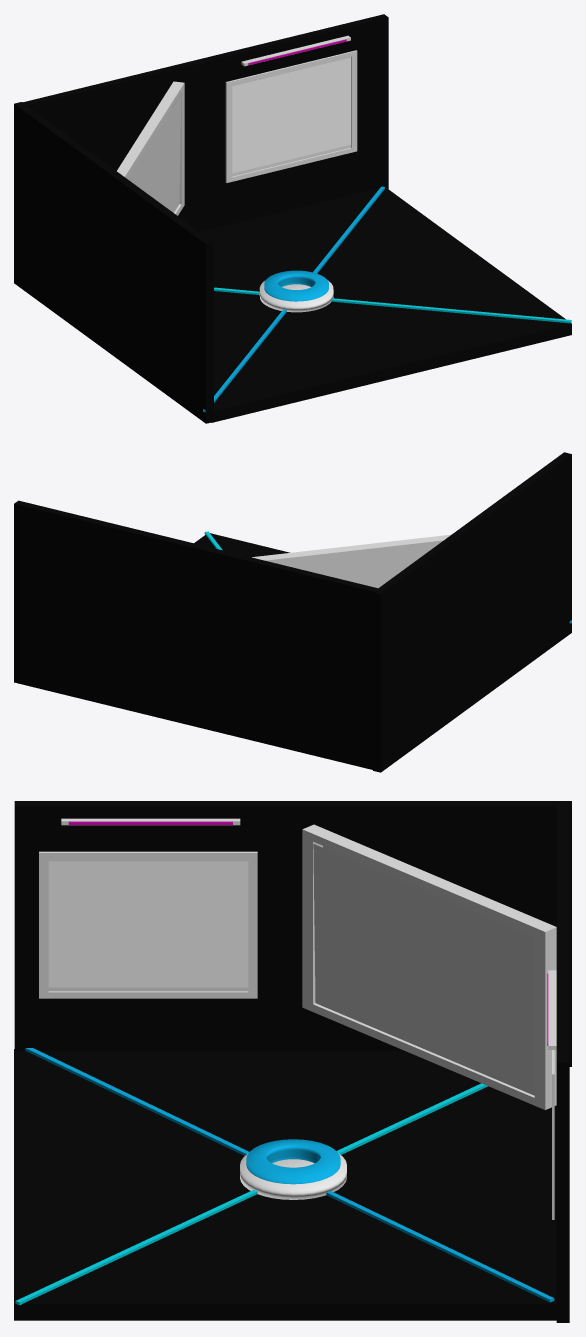
The model's file is about-acses.glb.
3 renders of one model, top to bottom at view 1: azimuth 30°, elevation 25°; view 2: azimuth 150°, elevation 25°; view 3: azimuth 270°, elevation 25°, orthographic. The views are drawn at different scales.
Visible parts, largest first — view 1: Floor_Base, Wall_Left, Wall_Right, Plane_Vision, Case_Vision, Plane_Video, Case_Video, Cyan_Light_Cylinder, Cyan_Light_2, Cyan_Light_1, Cyan_Light_Base; view 2: Wall_Right, Wall_Left, Case_Video, Floor_Base; view 3: Floor_Base, Wall_Left, Plane_Video, Plane_About, Case_Video, Case_About, Wall_Right, Cyan_Light_Cylinder, Cyan_Light_1, Cyan_Light_2, Cyan_Light_Base, Ceiling_Light_Base_2 (+2 smaller).
Part boxes in pixels (x1=…): Floor_Base: x1=200, y1=186, x2=571, y2=422; Wall_Left: x1=14, y1=102, x2=213, y2=423; Wall_Right: x1=23, y1=14, x2=388, y2=231; Plane_Vision: x1=232, y1=57, x2=350, y2=173; Case_Vision: x1=225, y1=50, x2=357, y2=182; Plane_Video: x1=127, y1=94, x2=181, y2=212; Case_Video: x1=117, y1=81, x2=184, y2=215; Cyan_Light_Cylinder: x1=264, y1=270, x2=328, y2=301; Cyan_Light_2: x1=214, y1=287, x2=571, y2=323; Cyan_Light_1: x1=203, y1=186, x2=384, y2=412; Cyan_Light_Base: x1=259, y1=280, x2=333, y2=312; Wall_Right: x1=14, y1=500, x2=377, y2=769; Wall_Left: x1=373, y1=452, x2=571, y2=772; Case_Video: x1=252, y1=534, x2=450, y2=588; Floor_Base: x1=194, y1=533, x2=289, y2=557; Floor_Base: x1=14, y1=1049, x2=556, y2=1320; Wall_Left: x1=14, y1=801, x2=571, y2=1066; Plane_Video: x1=313, y1=843, x2=534, y2=1095; Plane_About: x1=48, y1=861, x2=248, y2=987; Case_Video: x1=302, y1=824, x2=556, y2=1109; Case_About: x1=39, y1=851, x2=257, y2=998; Wall_Right: x1=556, y1=806, x2=569, y2=1322; Cyan_Light_Cylinder: x1=246, y1=1139, x2=340, y2=1184; Cyan_Light_1: x1=25, y1=1048, x2=554, y2=1302; Cyan_Light_2: x1=15, y1=1083, x2=487, y2=1305; Cyan_Light_Base: x1=240, y1=1153, x2=346, y2=1199; Ceiling_Light_Base_2: x1=61, y1=818, x2=240, y2=825.
Size of the model in its own units: 36.66 by 16.97 by 32.92.
